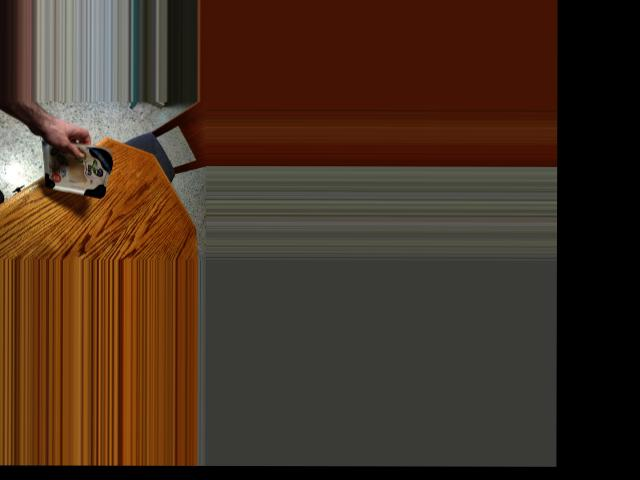cheese: (40, 134, 114, 198)
